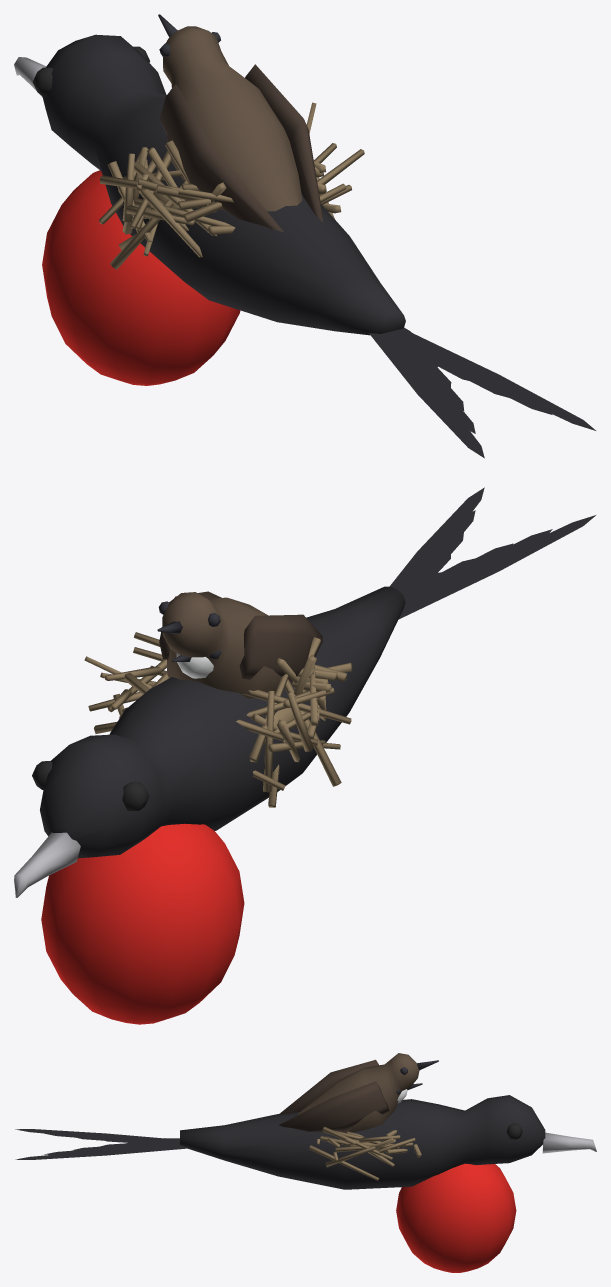
File: seabirds.glb
3 views of the same model, one above another, from view 1: azimuth 30°, elevation 25°; view 2: azimuth 150°, elevation 25°; view 3: azimuth 270°, elevation 25° (orthographic). The views are drawn at different scales.
Visible parts, largest first — view 1: Frigate, FrigateSac, NoddyPerched, Nest, FrigateTailL, FrigateTailR; view 2: Frigate, FrigateSac, NoddyPerched, Nest, FrigateTailL, FrigateTailR, WhiteTernPerched; view 3: Frigate, FrigateSac, NoddyPerched, Nest, FrigateTailR, FrigateTailL.
Part boxes in pixels (x1,y1,x2,y2): Frigate: (14,34,405,335); FrigateSac: (42,170,240,385); NoddyPerched: (158,14,322,231); Nest: (99,102,364,269); FrigateTailL: (369,328,484,458); FrigateTailR: (391,327,595,430); Frigate: (14,586,405,897); FrigateSac: (41,823,244,1024); NoddyPerched: (157,591,322,698); Nest: (84,632,352,807); FrigateTailL: (398,515,595,619); FrigateTailR: (389,487,484,608); WhiteTernPerched: (172,650,221,678); Frigate: (180,1095,596,1189); FrigateSac: (396,1163,516,1272); NoddyPerched: (278,1053,438,1132); Nest: (309,1126,421,1180); FrigateTailR: (15,1139,188,1159); FrigateTailL: (15,1129,179,1142).
Bounding box in the file's own units: 0.3323 × 0.5302 × 1.31.
